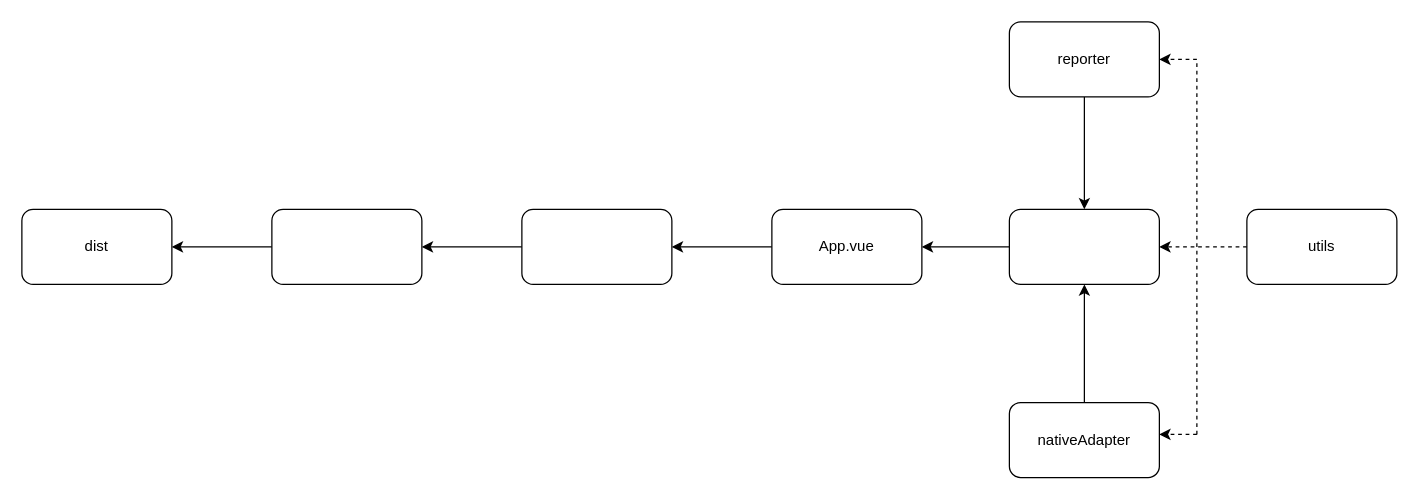
This 1419x500 diagram has some shape labels left out. The shapes that lost their labels are listed below. From the top down, each one's centre as x and y in pixels, then its label:
At [346,246]: "index.html".
At [596,246]: "main.js".
At [1083,246]: "adMethod".
